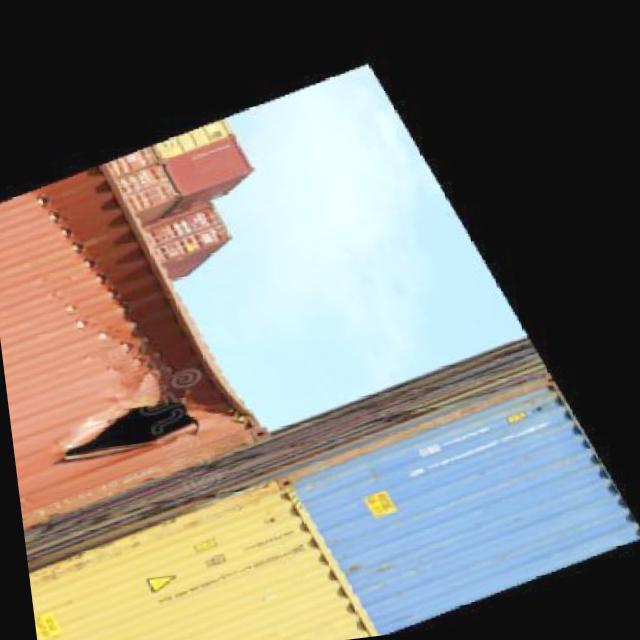hole: (36, 360, 233, 496), (118, 240, 247, 428)
